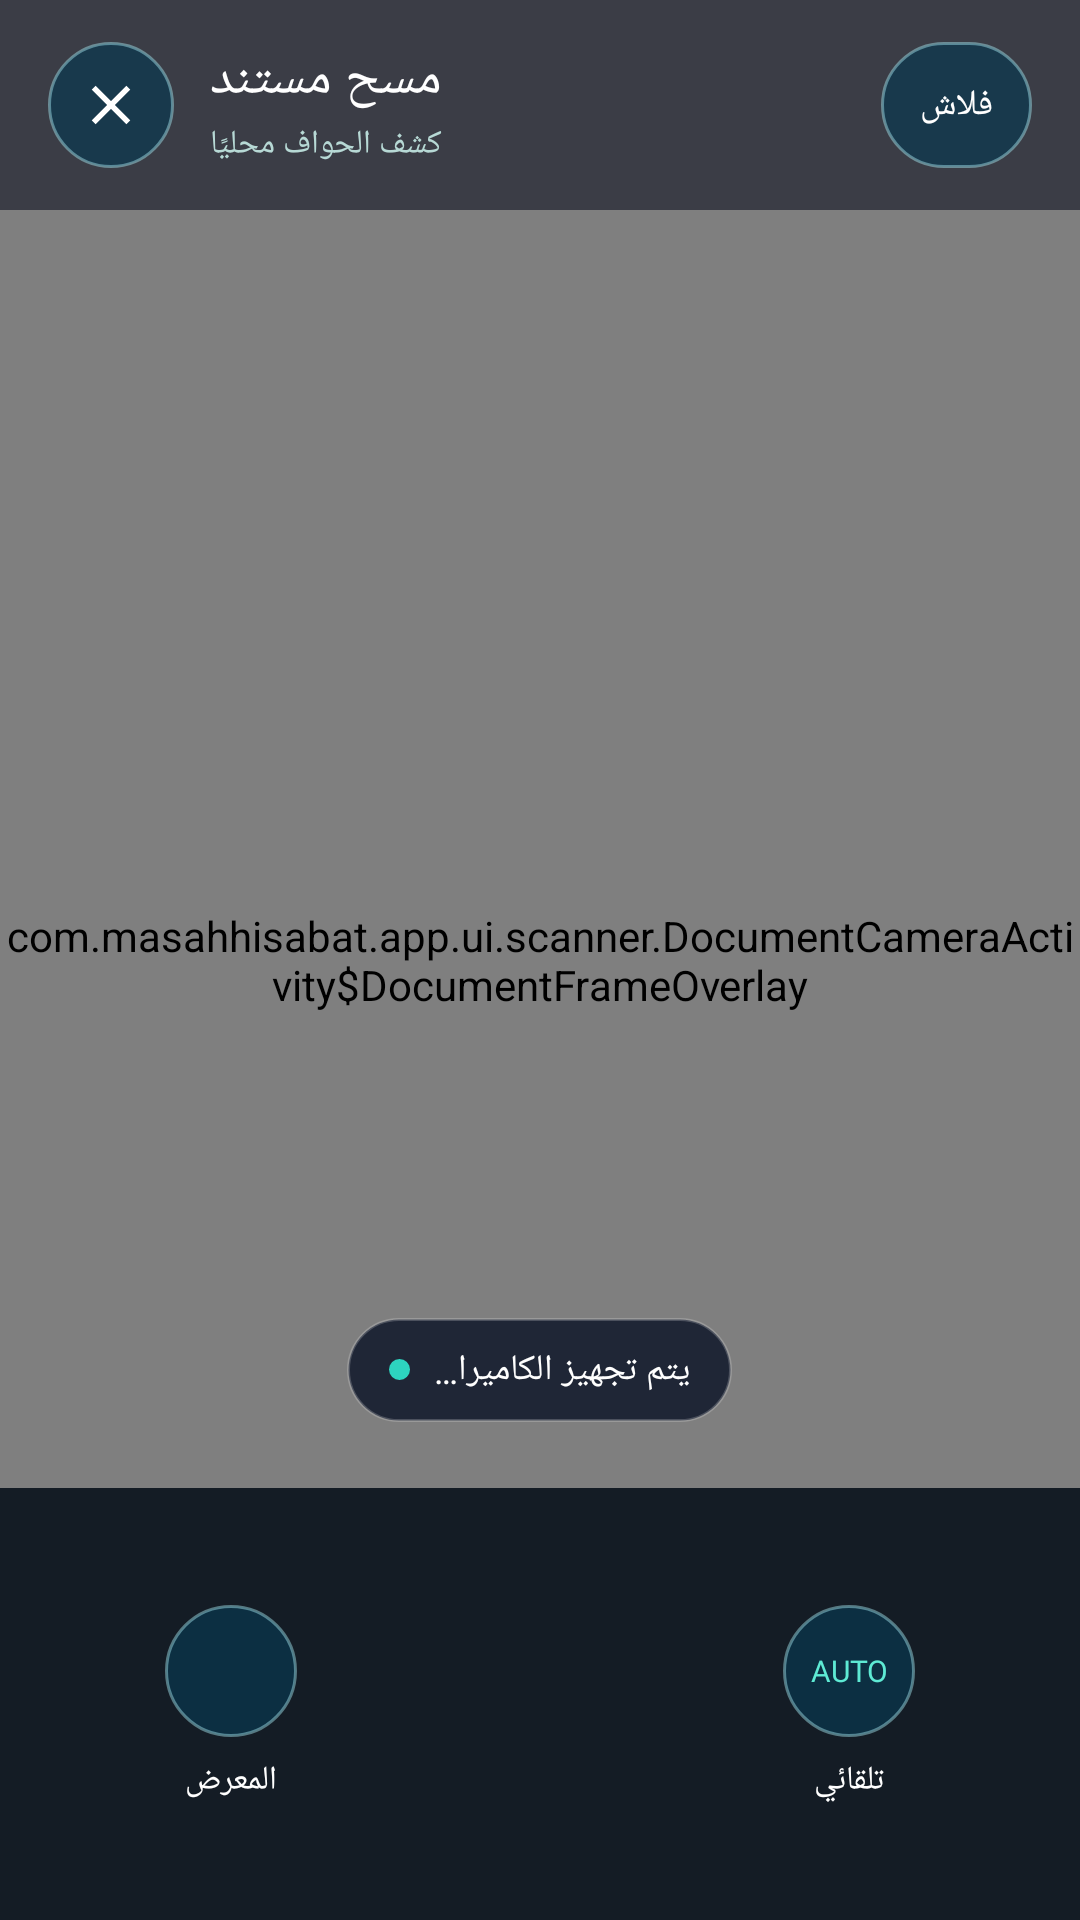

Screen size 1080 x 1920. Icon name, then its box in pixels as bbox=[x1, y1, x2, y2]:
إغلاق: bbox=[48, 42, 174, 168]
